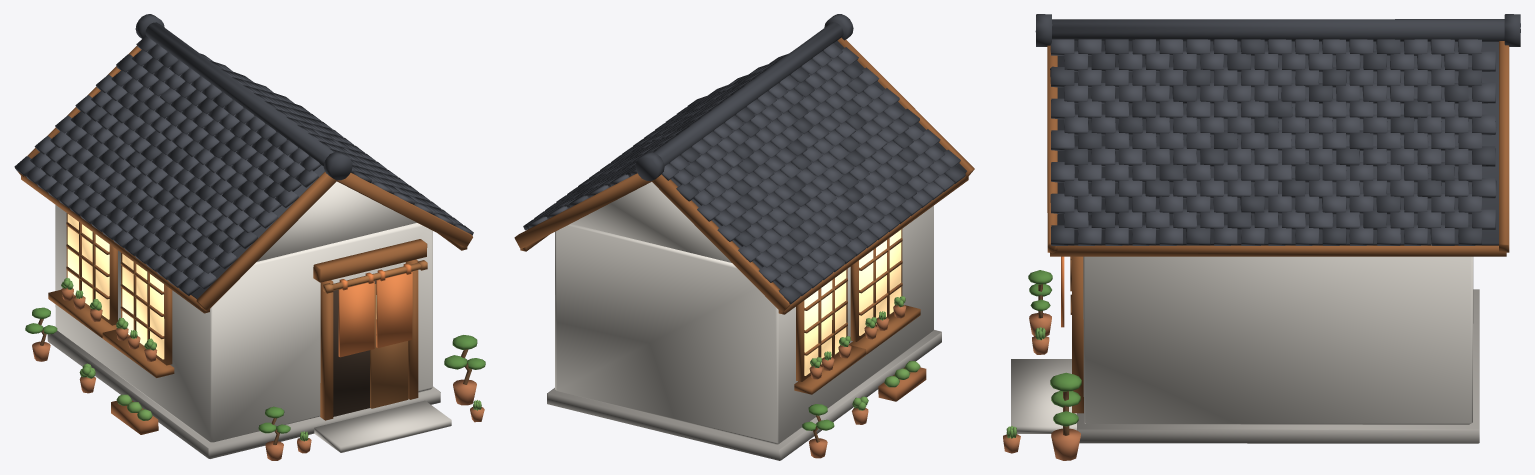
The model's file is donburi.glb.
3 views of the same model, side by side, from view 1: azimuth 30°, elevation 25°; view 2: azimuth 150°, elevation 25°; view 3: azimuth 270°, elevation 25° (orthographic). The views are drawn at different scales.
Parts seen in each view (by area): view 1: donburi; view 2: donburi; view 3: donburi.
Part boxes in pixels (left/top/right/bottom): donburi: left=14, top=14, right=485, bottom=460; donburi: left=514, top=14, right=974, bottom=460; donburi: left=1003, top=14, right=1520, bottom=460.
Size of the model in its own units: 2.6 by 2.33 by 3.05.
